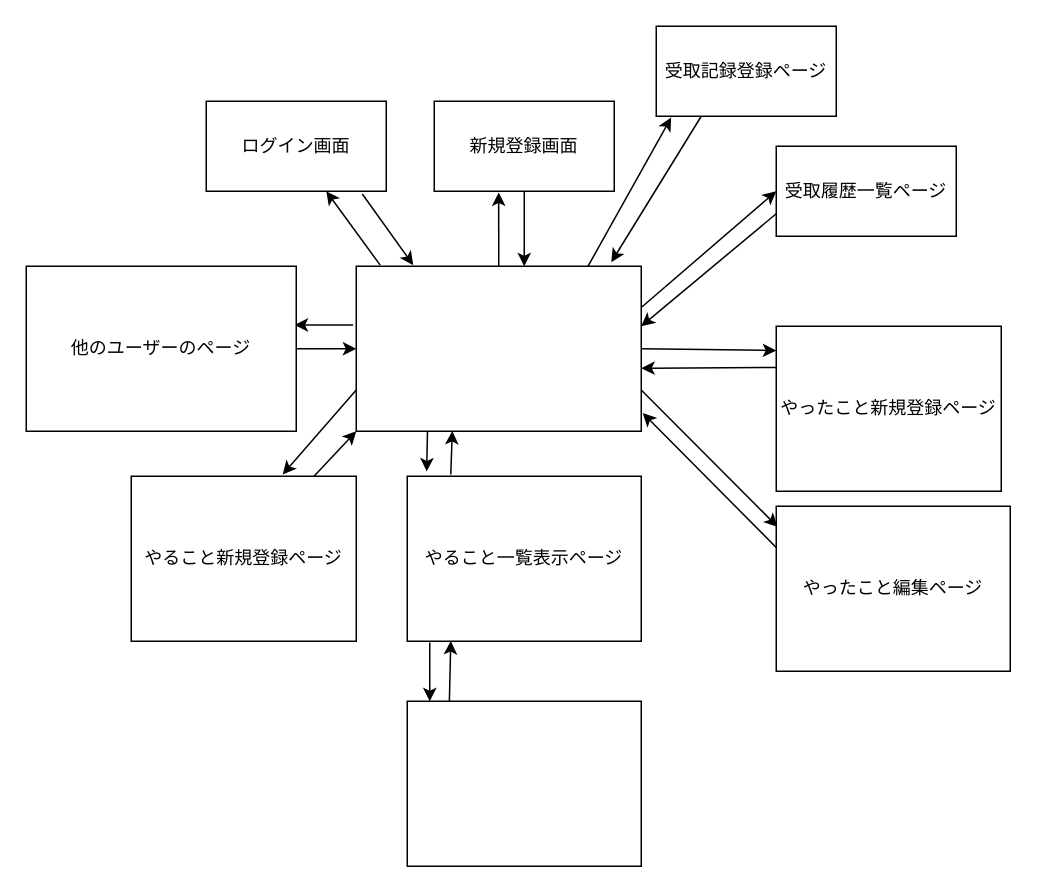
The diagram is 1037 pixels wide and 893 high, and some of its shapes have lost their labels. Here are the shapes that lost their labels. From the top down, the centre of each, then its label:
At point 498,348: "トップページ".
At point 523,783: "やること編集ページ".
